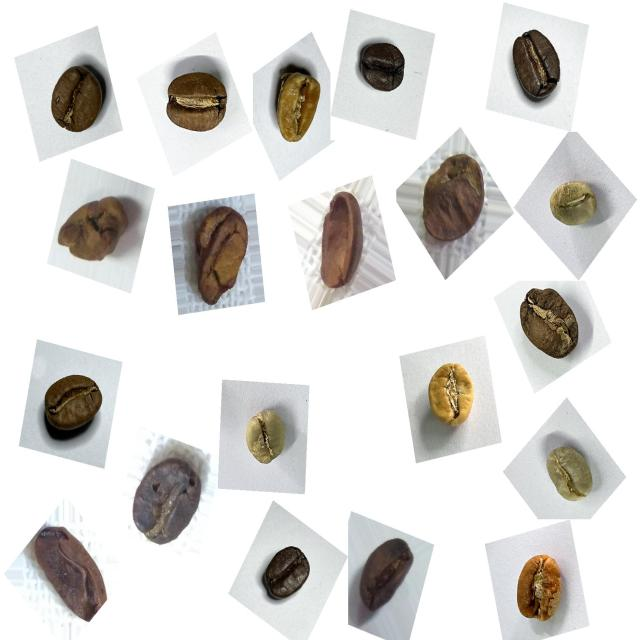bad: (28, 519, 120, 636), (127, 442, 213, 558), (180, 200, 262, 316), (409, 145, 493, 253), (50, 182, 139, 274), (308, 181, 374, 297), (348, 528, 421, 621)
dark: (255, 533, 322, 613), (354, 32, 418, 106)
green: (232, 399, 300, 479), (535, 435, 603, 515), (540, 170, 605, 240)
light: (262, 55, 328, 154), (417, 348, 489, 438), (506, 543, 574, 635)
medium: (508, 276, 589, 372), (158, 62, 237, 148), (500, 20, 573, 111), (34, 361, 112, 446), (40, 57, 113, 147)
